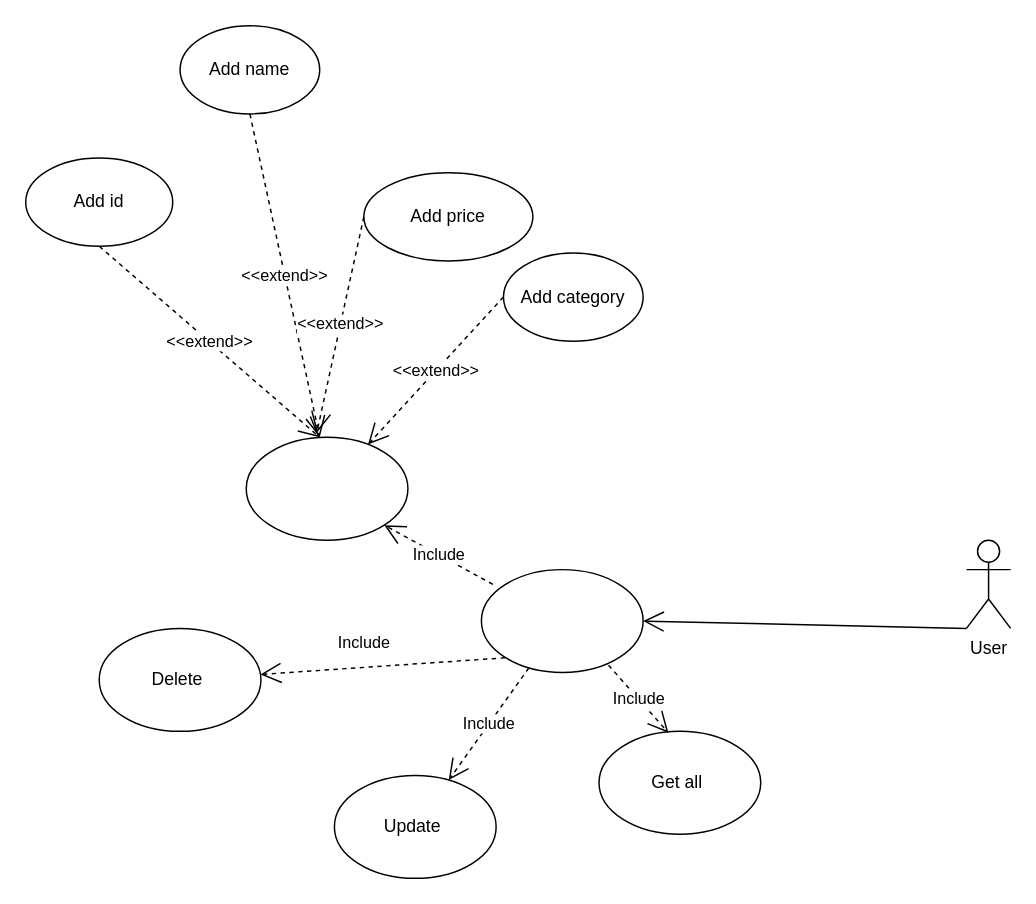
Some shapes in this 1036 by 904 pixel diagram are drawn without their labels. The centre of each missing label's shape, as x and y in pixels:
Add: the point at 326,488
Work with goods: the point at 561,620
